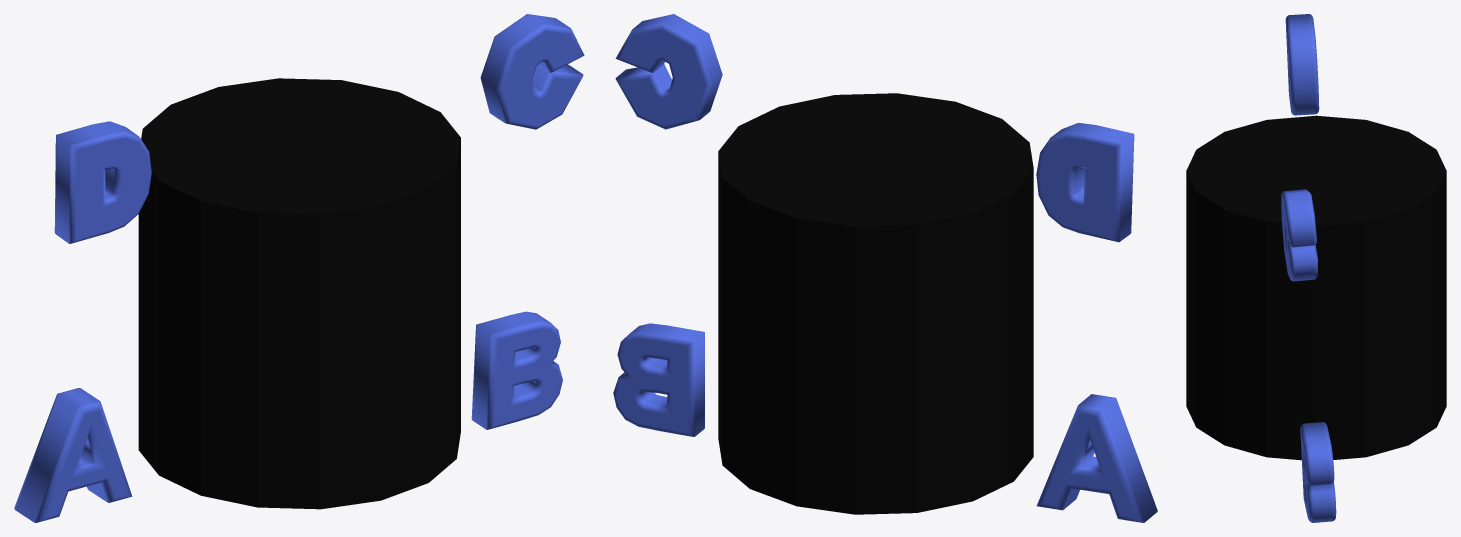
Rendered from tabung9.glb.
3 renders of one model, left to right at view 1: azimuth 30°, elevation 25°; view 2: azimuth 150°, elevation 25°; view 3: azimuth 270°, elevation 25°, orthographic. The views are drawn at different scales.
Parts seen in each view (by area): view 1: Cylinder, Text.003, Text.009, Text.002, Text.001; view 2: Cylinder, Text.003, Text.002, Text.001, Text.009; view 3: Cylinder, Text.001, Text.003, Text.002.
Part boxes in pixels (box(x1,y1,x2,y2)): Cylinder: box(138, 78, 460, 509); Text.003: box(54, 121, 151, 243); Text.009: box(14, 388, 132, 522); Text.002: box(480, 14, 584, 129); Text.001: box(471, 311, 562, 429); Cylinder: box(718, 93, 1033, 514); Text.003: box(1036, 123, 1134, 242); Text.002: box(615, 14, 722, 129); Text.001: box(613, 323, 704, 436); Text.009: box(1036, 394, 1157, 522); Cylinder: box(1186, 115, 1446, 460); Text.001: box(1300, 422, 1336, 522); Text.003: box(1285, 14, 1319, 115); Text.002: box(1281, 189, 1318, 281).
Bounding box in the file's own units: 3.9 × 2.75 × 2.
